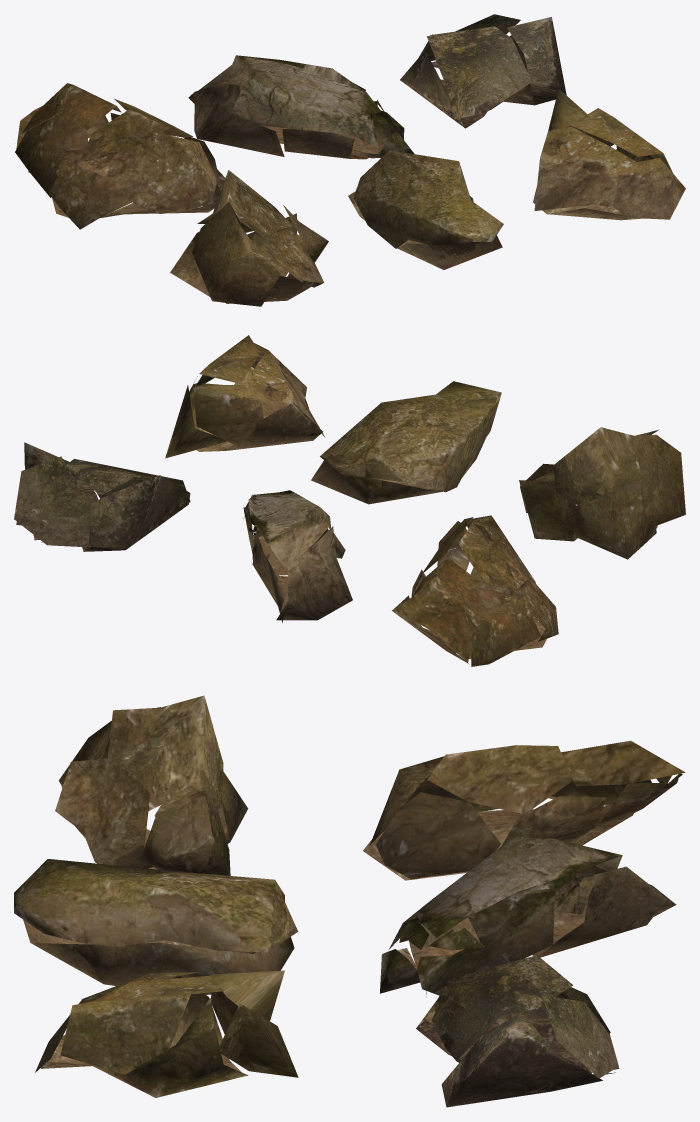
File: rock_moss_set_01_lod2.gltf
The picture shows the model from 3 angles, top to bottom: view 1: azimuth 30°, elevation 25°; view 2: azimuth 150°, elevation 25°; view 3: azimuth 270°, elevation 25°; orthographic projection. The views are drawn at different scales.
Visible parts, largest first — view 1: rock_moss_set_01_lod2; view 2: rock_moss_set_01_lod2; view 3: rock_moss_set_01_lod2.
Part boxes in pixels (x1,y1,x2,y2): rock_moss_set_01_lod2: [15, 14, 685, 306]; rock_moss_set_01_lod2: [14, 335, 685, 666]; rock_moss_set_01_lod2: [14, 695, 685, 1107].
Size of the model in its own units: 7.94 by 1.79 by 6.85.
1 material, 1 textured.
